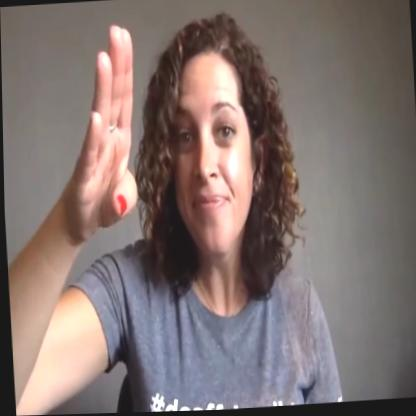Hello: (57, 23, 316, 304)
